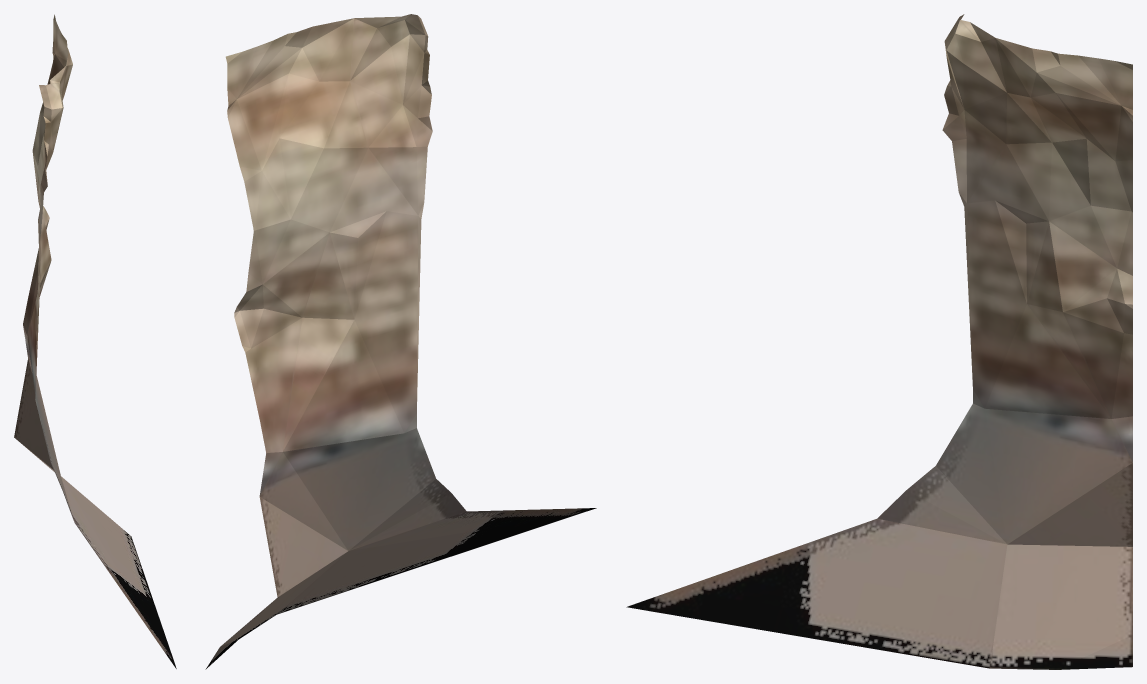
3 renders of one model, left to right at view 1: azimuth 30°, elevation 25°; view 2: azimuth 150°, elevation 25°; view 3: azimuth 270°, elevation 25°, orthographic. The views are drawn at different scales.
Size of the model in its own units: 0.3807 by 1.67 by 1.3.
Materials: 1 (1 with a texture image).
